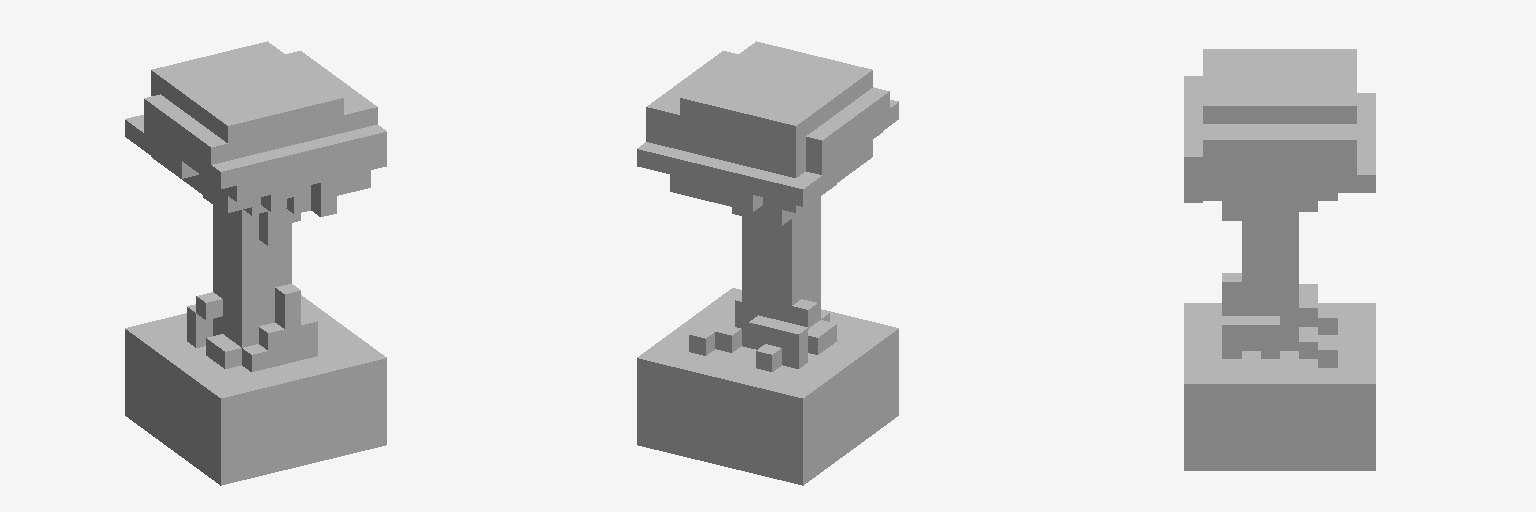
Rendered from tree1.obj.
3 renders of one model, left to right at view 1: azimuth 30°, elevation 25°; view 2: azimuth 150°, elevation 25°; view 3: azimuth 270°, elevation 25°, orthographic.
Visible parts, largest first — view 1: object 1; view 2: object 1; view 3: object 1.
Part boxes in pixels (left/top/right/bottom): object 1: left=125, top=41, right=386, bottom=485; object 1: left=637, top=41, right=898, bottom=485; object 1: left=1184, top=49, right=1375, bottom=470.
Bounding box in the file's own units: 1 × 2 × 1.